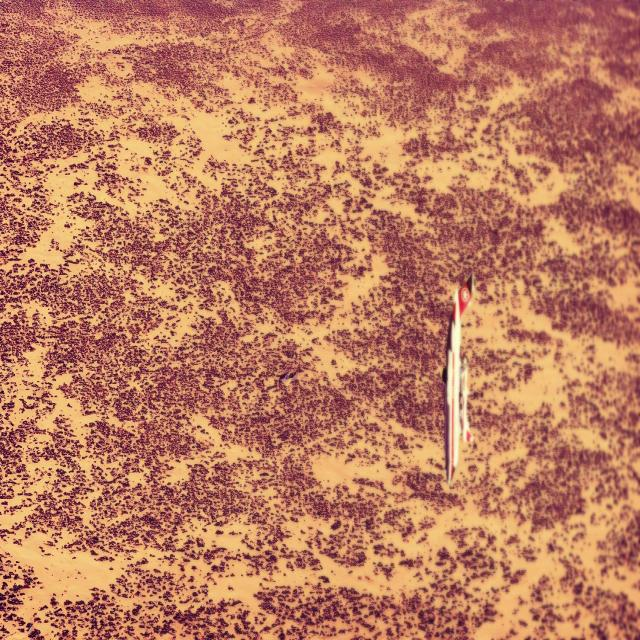airplane: (442, 272, 474, 484)
